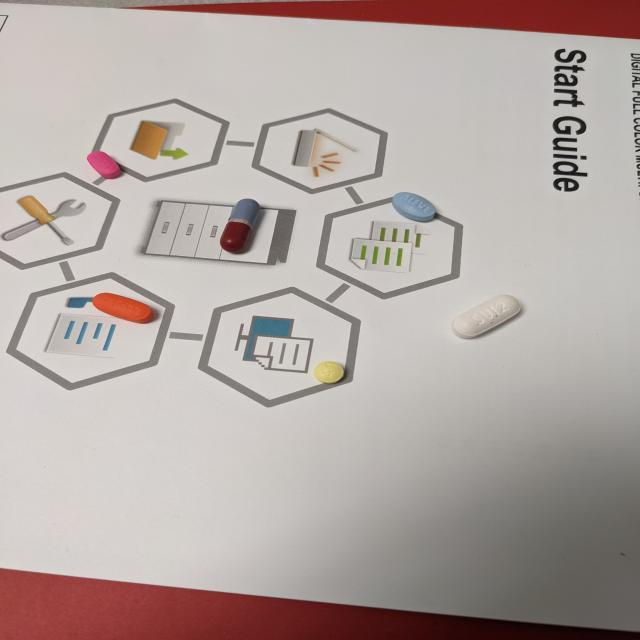non-organic waste: (450, 292, 523, 340), (219, 198, 262, 254), (92, 291, 155, 324), (390, 190, 438, 222), (85, 150, 123, 180), (312, 360, 346, 384)
